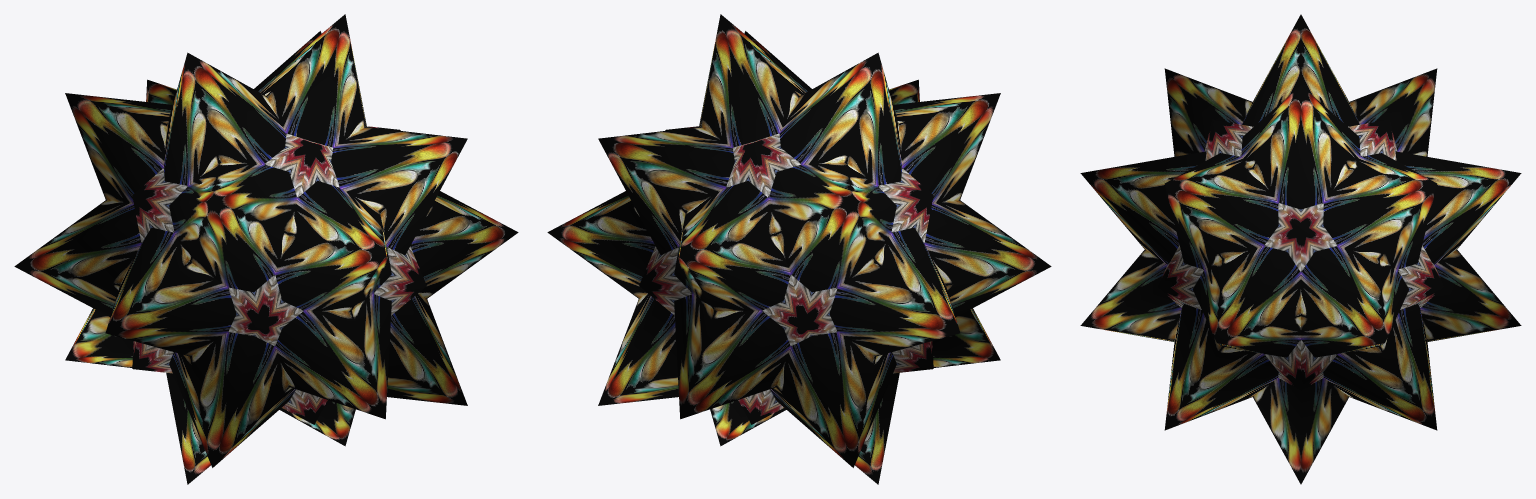
Rendered from GreatIcosacronicHexecontahedron12.gltf.
3 renders of one model, left to right at view 1: azimuth 30°, elevation 25°; view 2: azimuth 150°, elevation 25°; view 3: azimuth 270°, elevation 25°, orthographic. The views are drawn at different scales.
Parts seen in each view (by area): view 1: GreatIcosacronicHexecontahedron12; view 2: GreatIcosacronicHexecontahedron12; view 3: GreatIcosacronicHexecontahedron12.
Part boxes in pixels (<box>): GreatIcosacronicHexecontahedron12: <box>14,14,518,484</box>; GreatIcosacronicHexecontahedron12: <box>547,14,1051,484</box>; GreatIcosacronicHexecontahedron12: <box>1080,14,1521,484</box>.
Size of the model in its own units: 3.62 by 3.62 by 3.62.
1 material, 1 textured.
